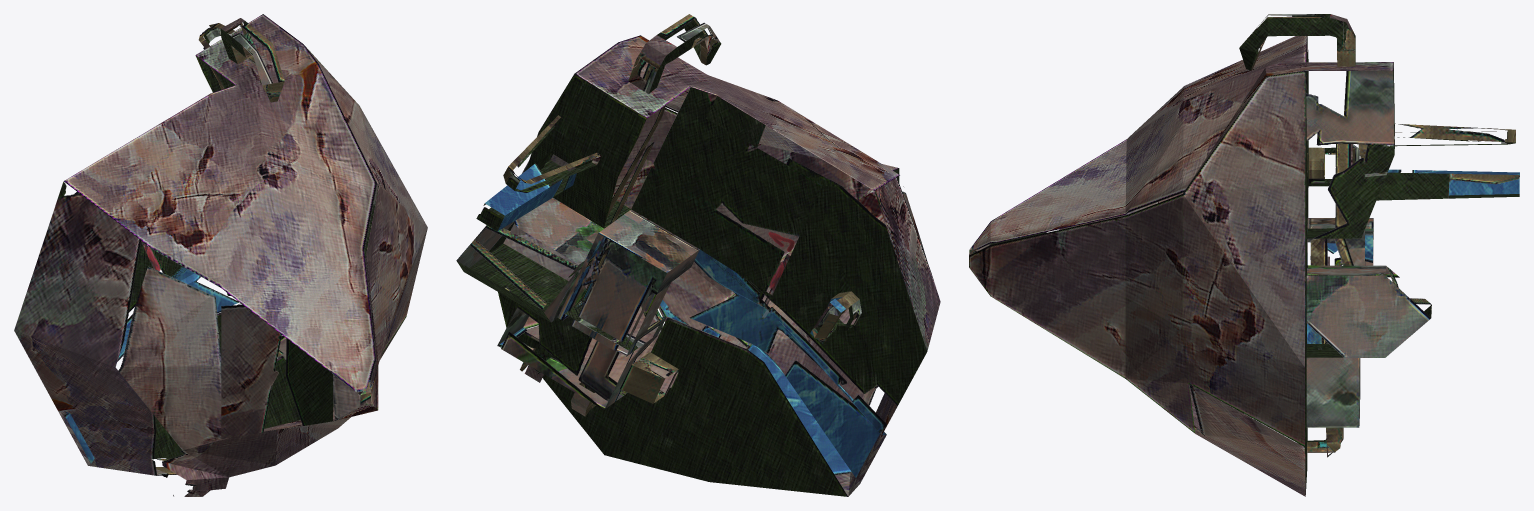
File: island.dae
3 renders of one model, left to right at view 1: azimuth 30°, elevation 25°; view 2: azimuth 150°, elevation 25°; view 3: azimuth 270°, elevation 25°, orthographic. The views are drawn at different scales.
Parts seen in each view (by area): view 1: Cube; view 2: Cube; view 3: Cube.
Boxes of the visible parts, x1,y1,x2,y2 form: Cube: [14, 14, 427, 496]; Cube: [456, 14, 940, 496]; Cube: [969, 14, 1519, 496].
Size of the model in its own units: 5.72 by 6.11 by 5.54.
Materials: 1 (1 with a texture image).
